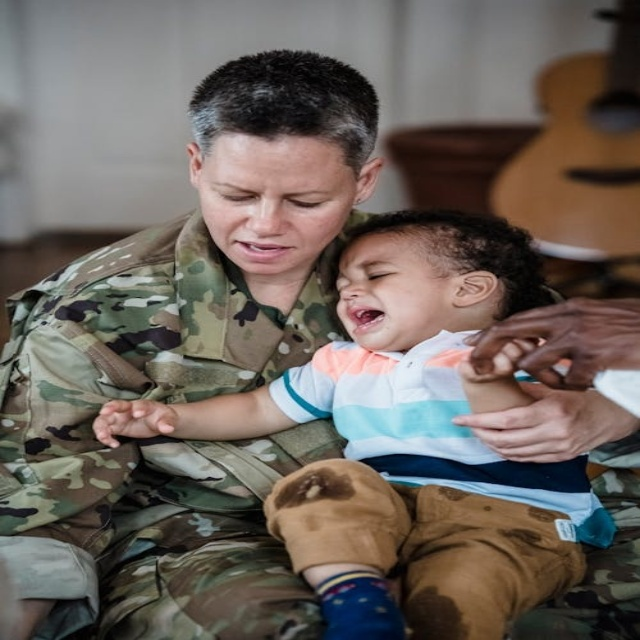Sin_gafas: (204, 174, 338, 215), (334, 250, 408, 288)
Sin_guantes: (465, 296, 640, 393), (447, 379, 635, 464), (95, 397, 177, 443)
Sin_mascara: (223, 232, 303, 273), (337, 301, 403, 343)
